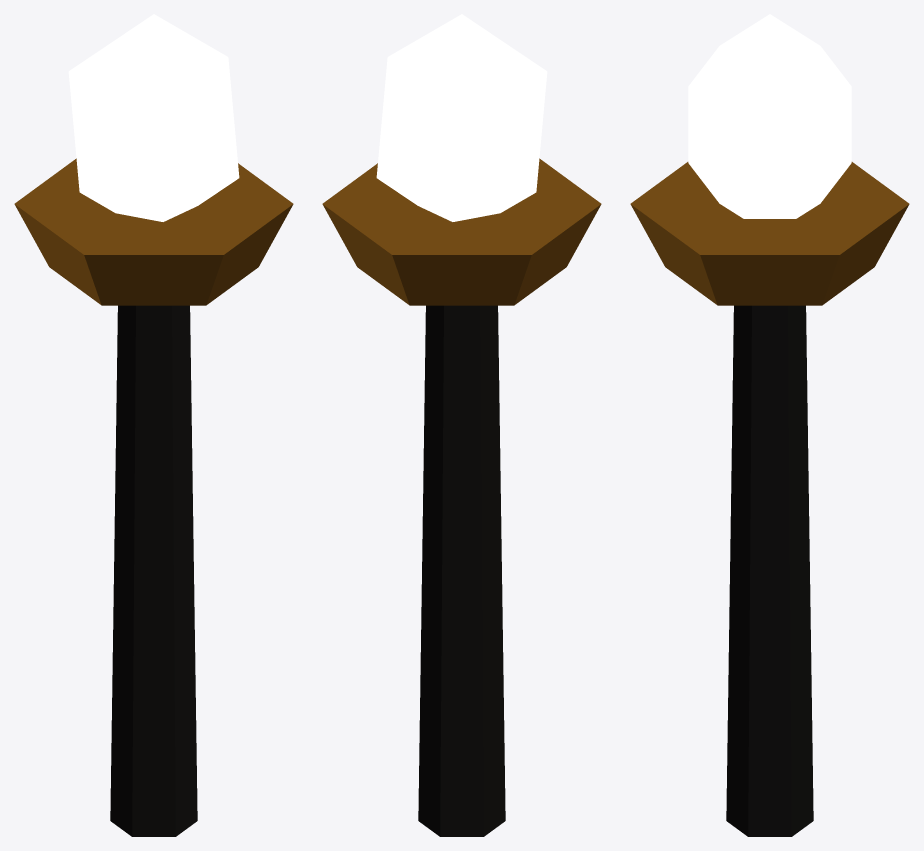
File: prop_ward.glb
The picture shows the model from 3 angles, left to right: view 1: azimuth 30°, elevation 25°; view 2: azimuth 150°, elevation 25°; view 3: azimuth 270°, elevation 25°; orthographic projection.
Parts seen in each view (by area): view 1: prop_ward_piedra, prop_ward_equipo; view 2: prop_ward_piedra, prop_ward_equipo; view 3: prop_ward_piedra, prop_ward_equipo.
Part boxes in pixels (x1,y1,x2,y2): prop_ward_piedra: (14, 158, 293, 836); prop_ward_equipo: (68, 14, 239, 221); prop_ward_piedra: (322, 158, 601, 836); prop_ward_equipo: (376, 14, 547, 221); prop_ward_piedra: (630, 162, 909, 836); prop_ward_equipo: (688, 14, 851, 218).
Bounding box in the file's own units: 0.2771 × 1.02 × 0.32.
